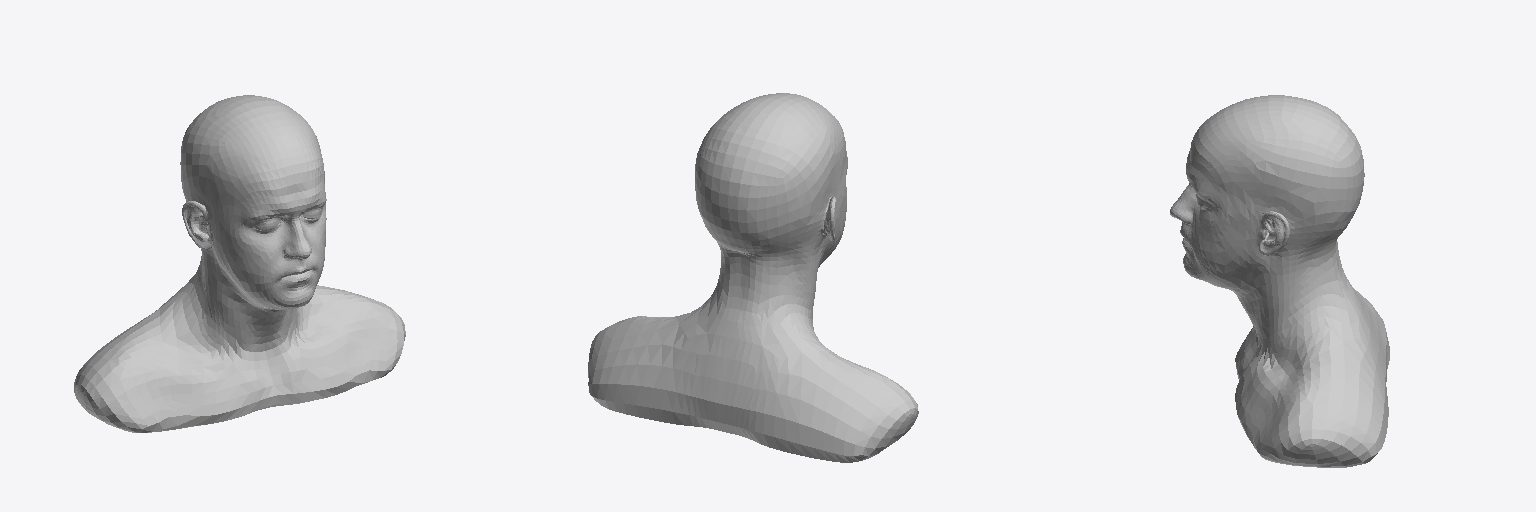
File: head.OBJ
3 views of the same model, side by side, from view 1: azimuth 30°, elevation 25°; view 2: azimuth 150°, elevation 25°; view 3: azimuth 270°, elevation 25° (orthographic).
Parts seen in each view (by area): view 1: head; view 2: head; view 3: head.
Part boxes in pixels (left/top/right/bottom): head: left=74, top=95, right=405, bottom=432; head: left=588, top=93, right=918, bottom=462; head: left=1170, top=95, right=1389, bottom=467.
Size of the model in its own units: 0.4306 by 0.4 by 0.2609.